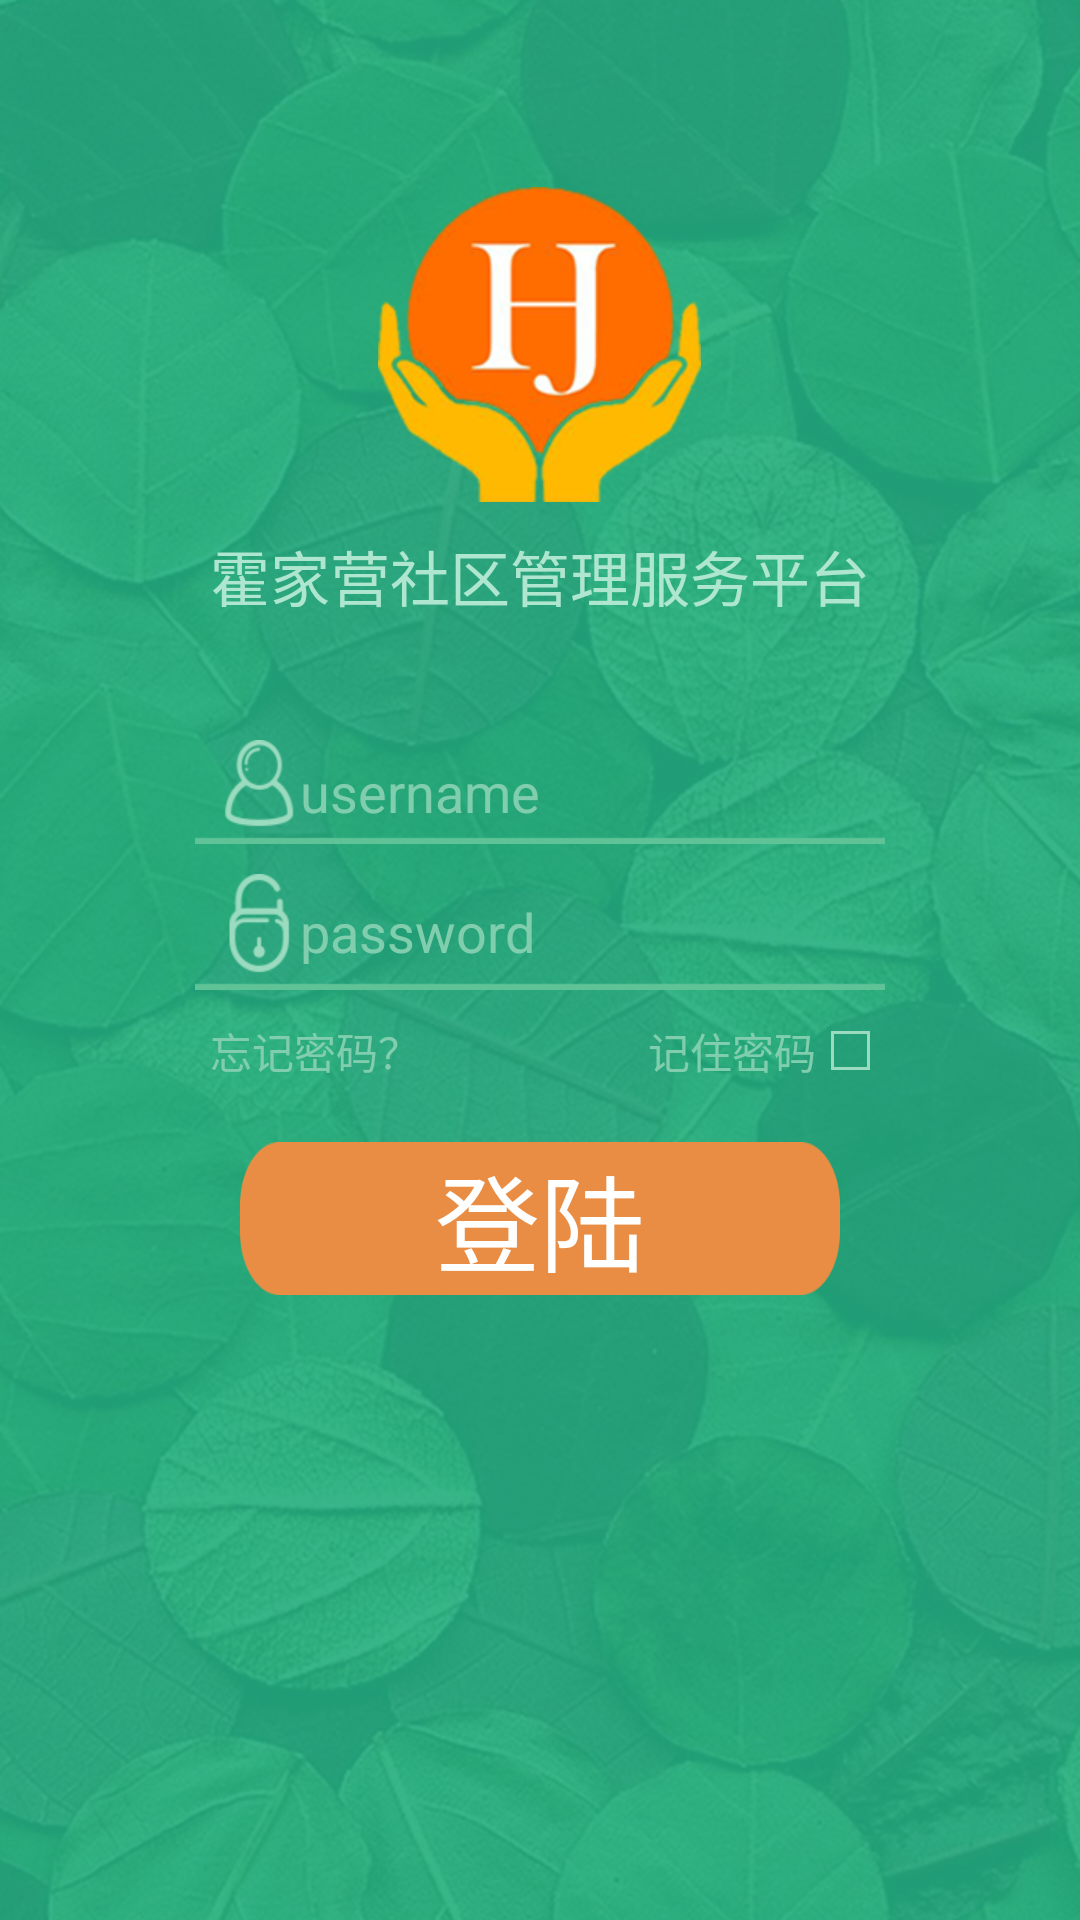

Screen size 1080*1920. Icon name, then its box in pixels as (x1, y1, x2, y2):
un word select: (831, 1031, 870, 1070)
